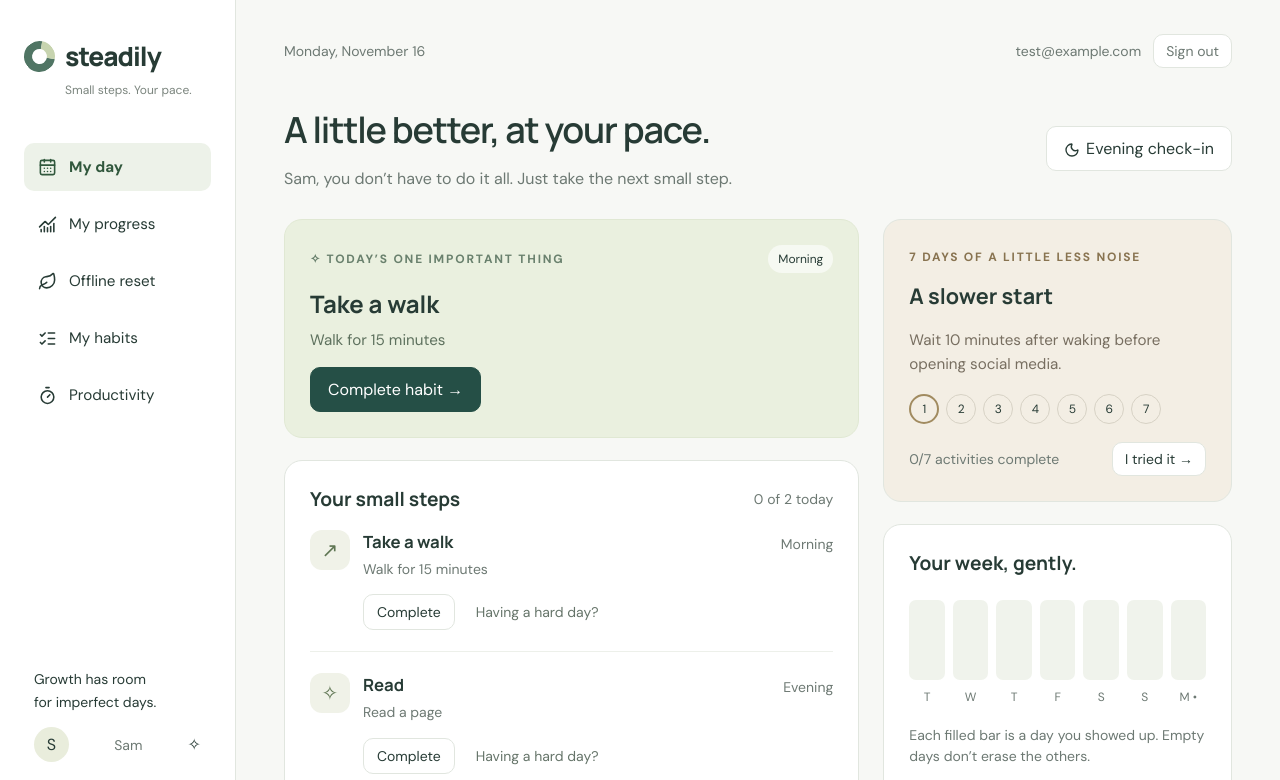
Test case: main app journeys › adds suggestions once, persists their identity, and stops at five habits
Expected: the heading "Your small steps" is shown, 310,486 -> 460,512
Click the link "My habits" at (88, 338), box 38,328 -> 138,348
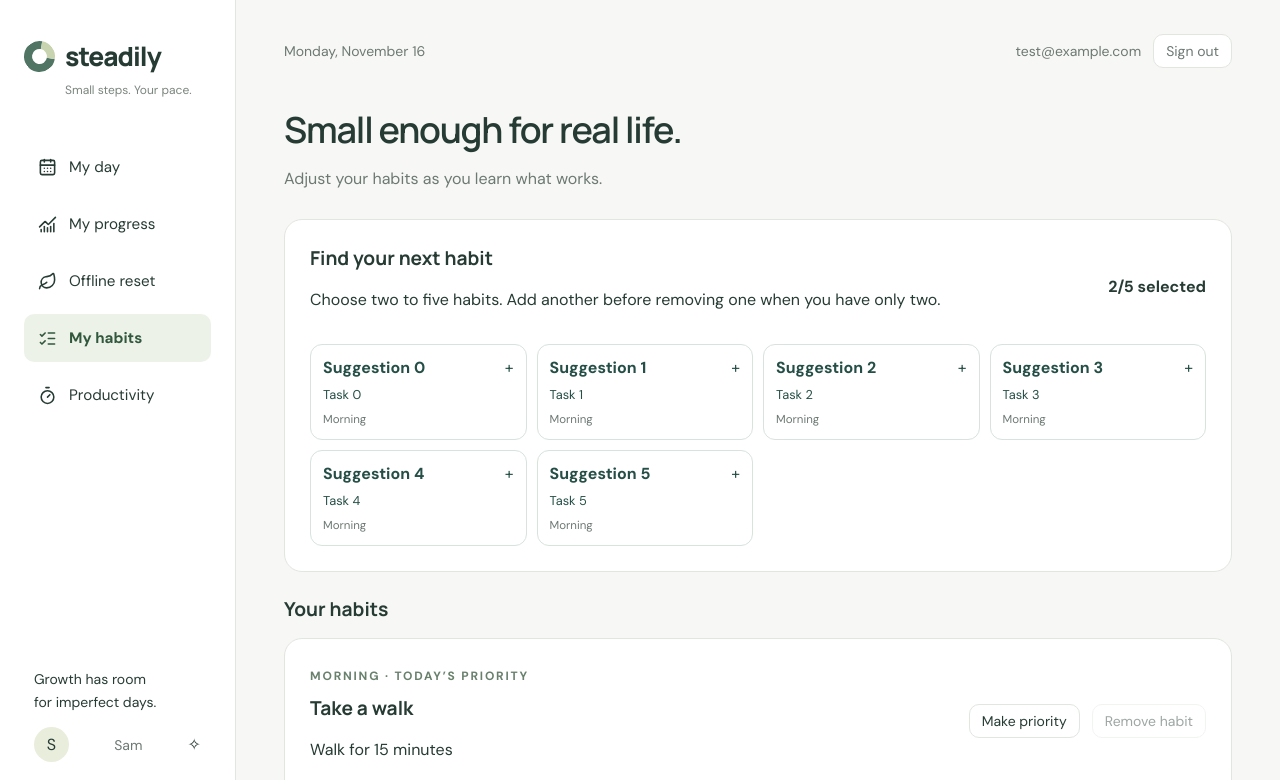
Click the button "Suggestion 0 + Task 0 Morning" at (418, 392), box 310,344 -> 526,440
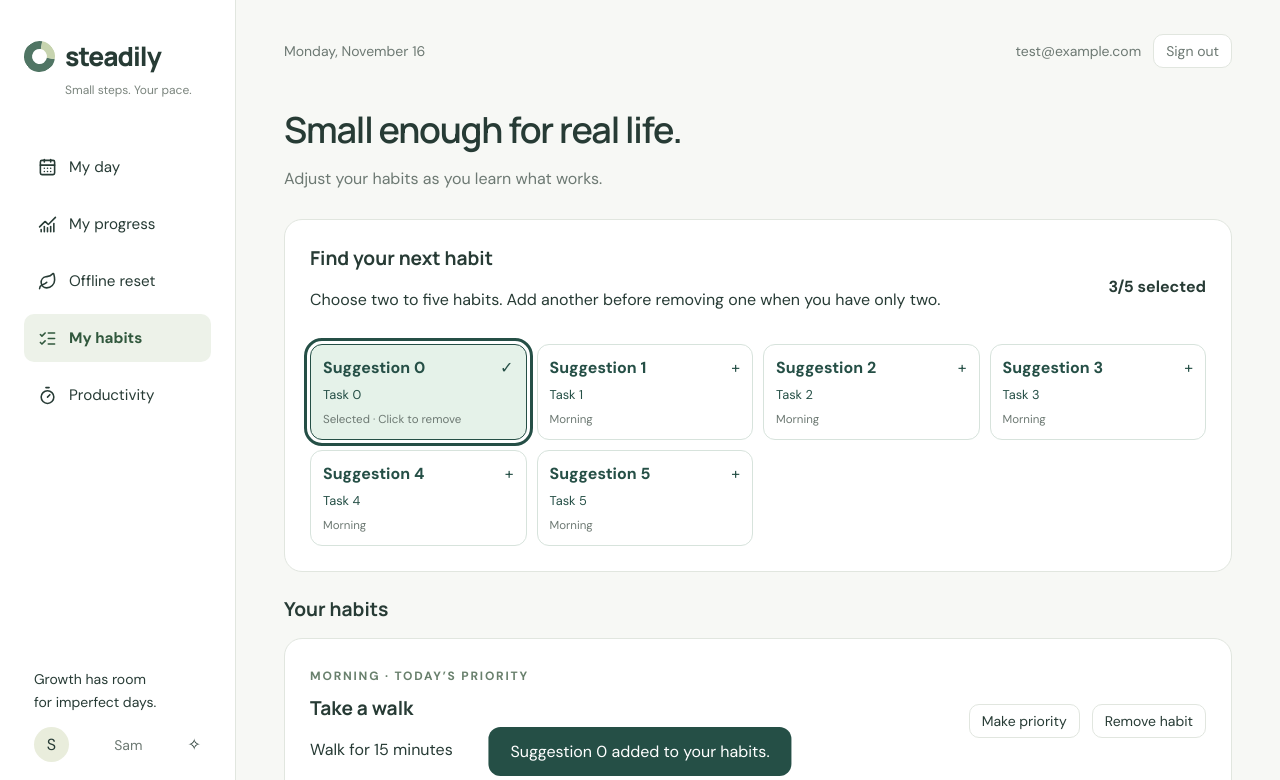
Now the button "Suggestion 0 ✓ Task 0 Selected · Click to remove" is pressed, box 310,344 -> 526,440
Click the button "Suggestion 1 + Task 1 Morning" at (645, 392), box 536,344 -> 753,440
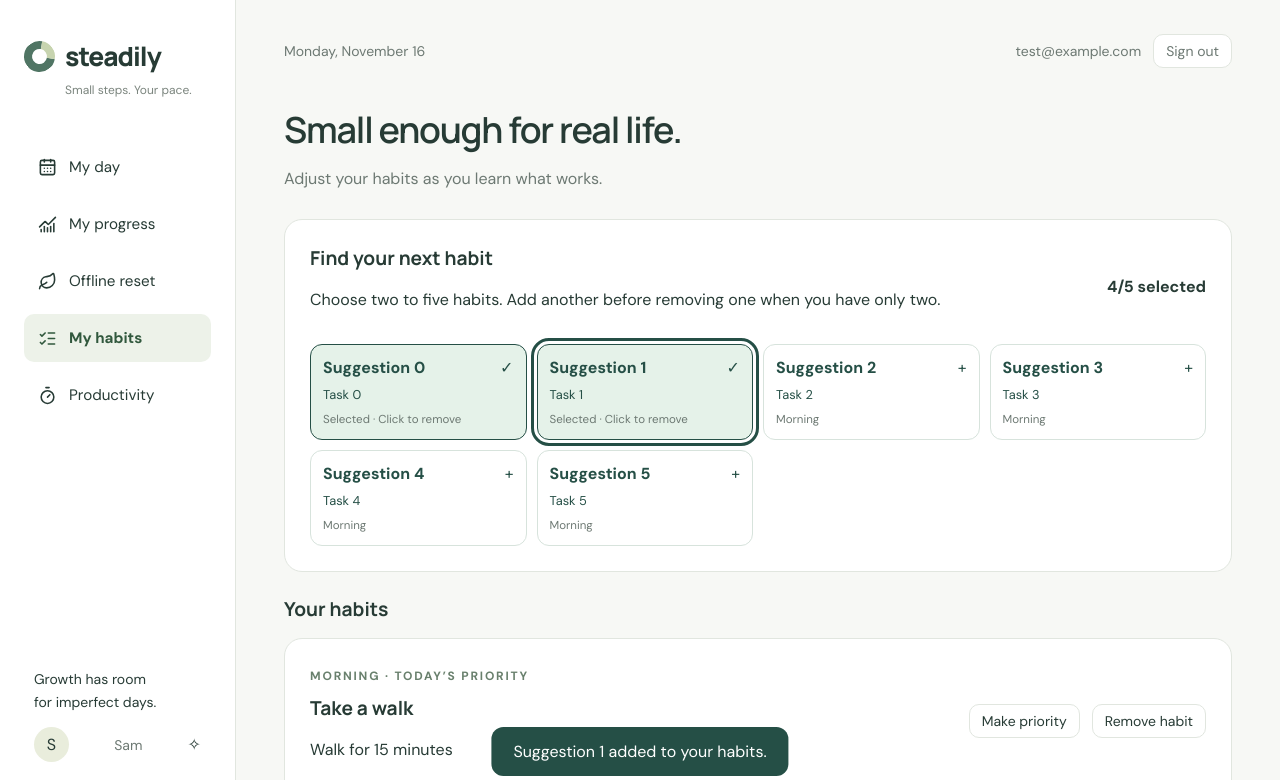
Click the button "Suggestion 2 + Task 2 Morning" at (871, 392), box 763,344 -> 980,440
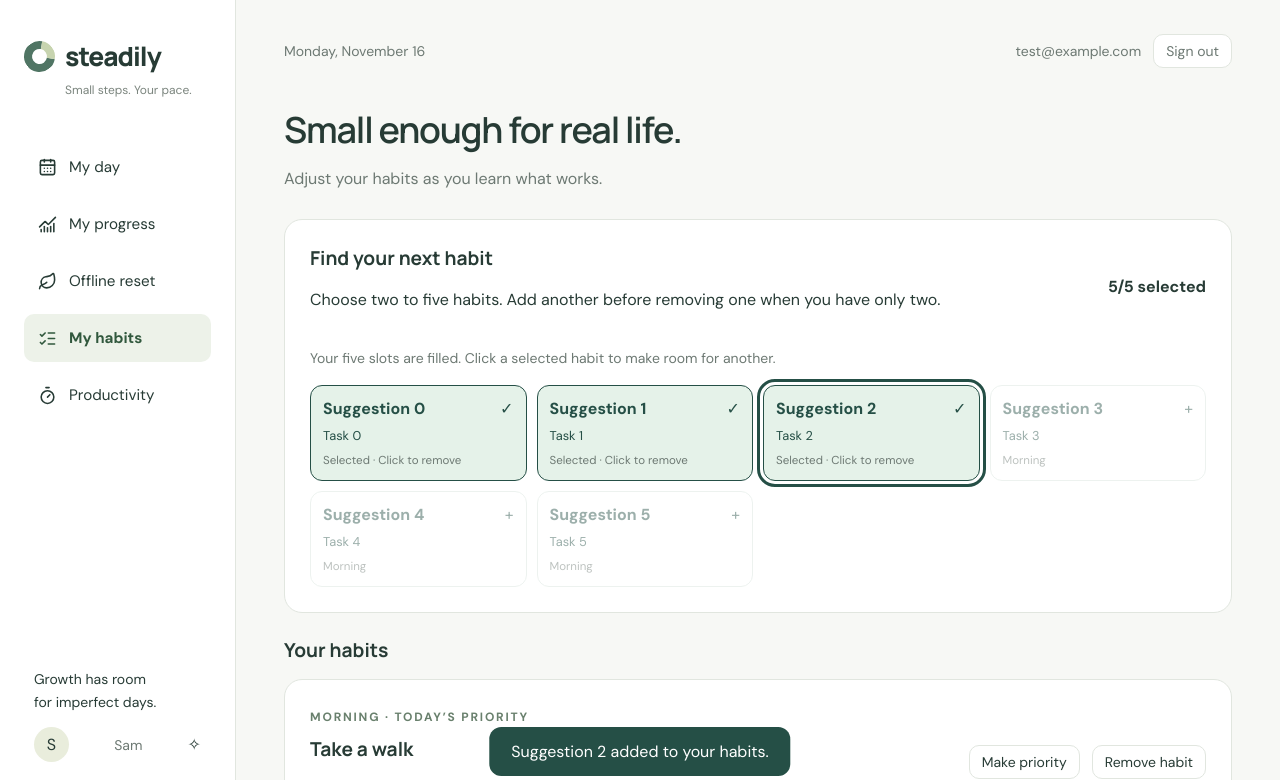
Now the button "Suggestion 5 + Task 5 Morning" is disabled, box 536,491 -> 753,587
Now the text "5/5 selected" is shown, box 1108,276 -> 1206,297
Click the button "Suggestion 0 ✓ Task 0 Selected · Click to remove" at (418, 433), box 310,385 -> 526,481
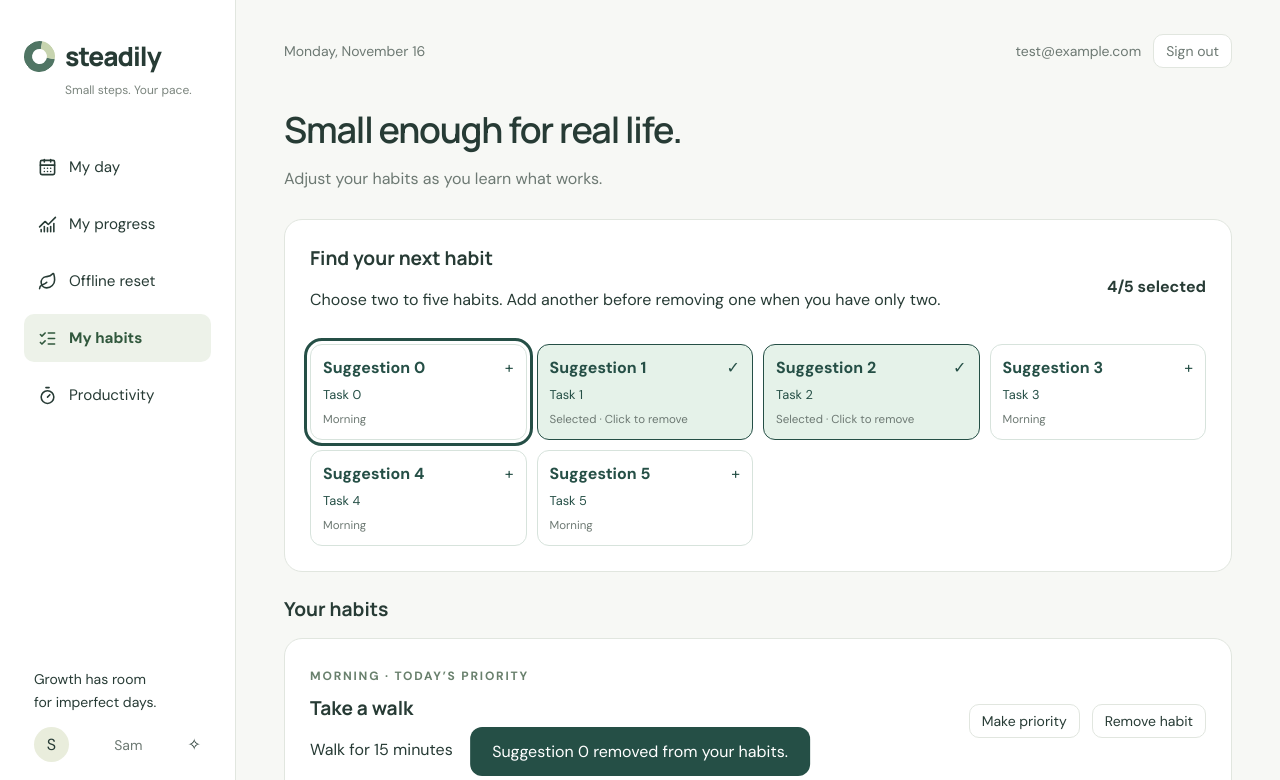
Now the text "4/5 selected" is shown, box 1107,276 -> 1206,297
Click the button "Suggestion 5 + Task 5 Morning" at (645, 498), box 536,450 -> 753,546
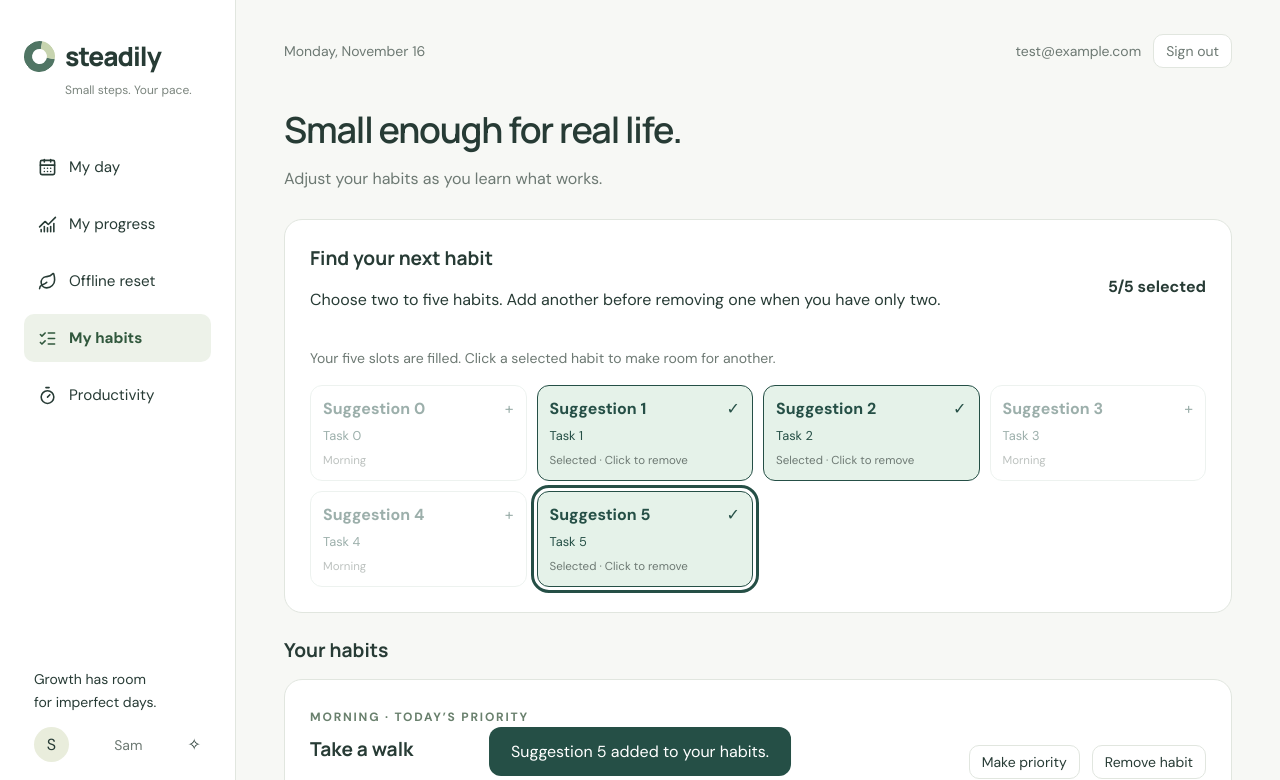
Now the text "5/5 selected" is shown, box 1108,276 -> 1206,297
